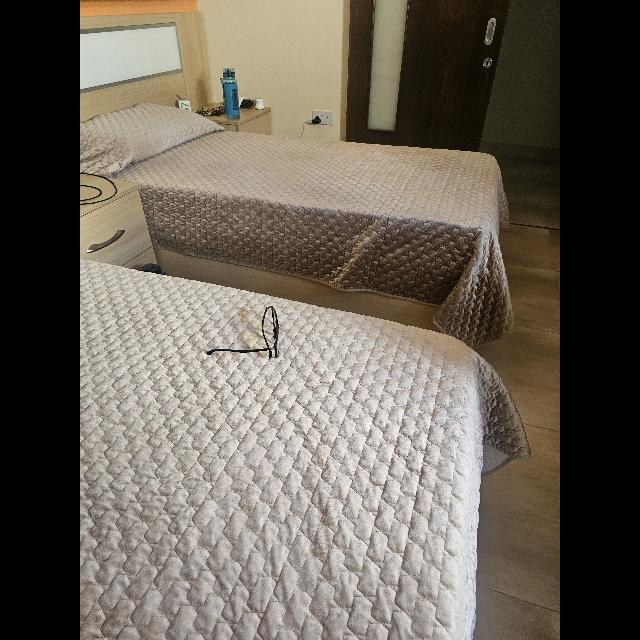glasses: (207, 306, 279, 358)
